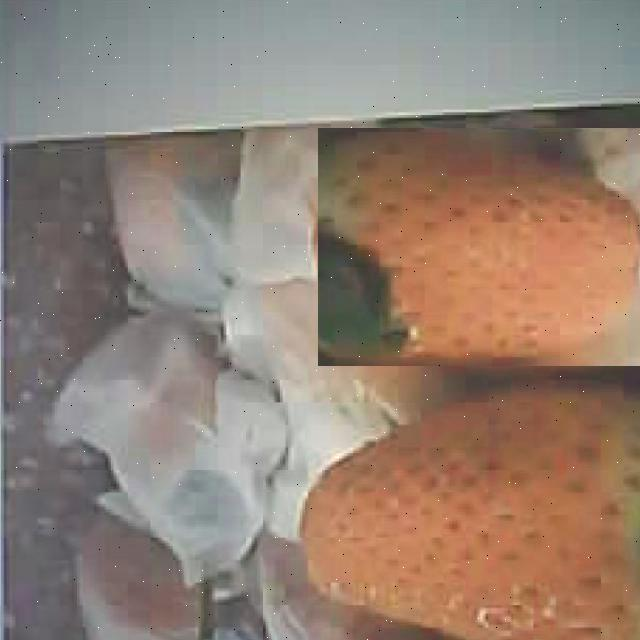ripe: (305, 382, 640, 640), (318, 128, 640, 366)
